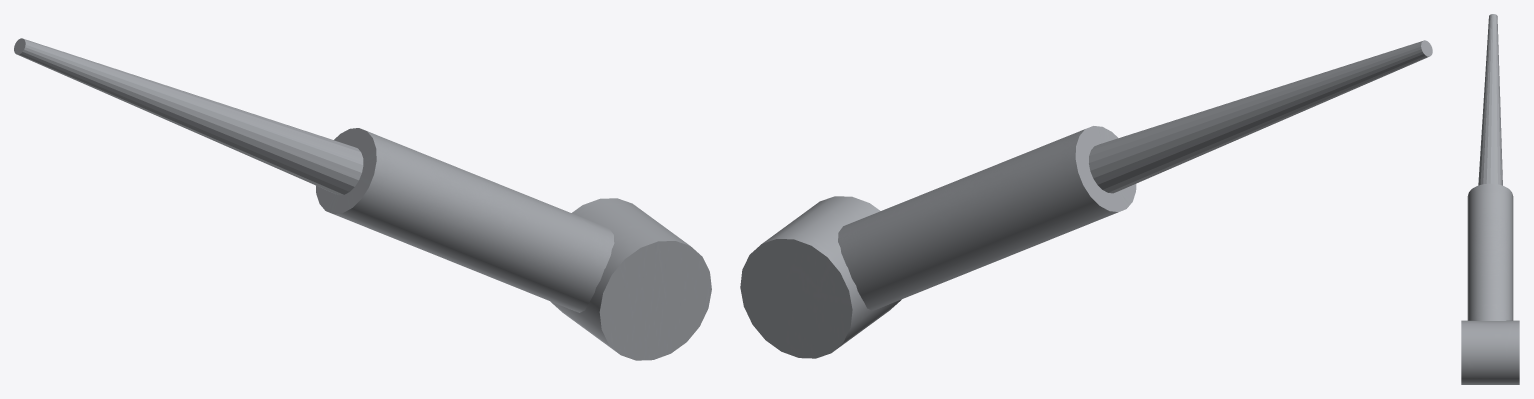
File: brazoSuperior.obj
3 views of the same model, side by side, from view 1: azimuth 30°, elevation 25°; view 2: azimuth 150°, elevation 25°; view 3: azimuth 270°, elevation 25° (orthographic). The views are drawn at different scales.
Parts seen in each view (by area): view 1: pCylinder23; view 2: pCylinder23; view 3: pCylinder23.
Part boxes in pixels (x1=…): pCylinder23: x1=14, y1=38, x2=711, y2=360; pCylinder23: x1=740, y1=40, x2=1432, y2=358; pCylinder23: x1=1461, y1=14, x2=1519, y2=384.
Size of the model in its own units: 1.02 by 0.6514 by 0.155.
